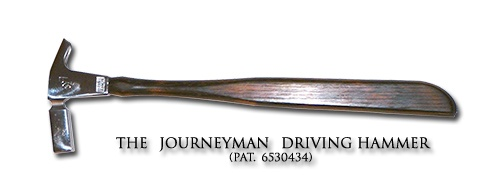hammer: (45, 34, 462, 158)
